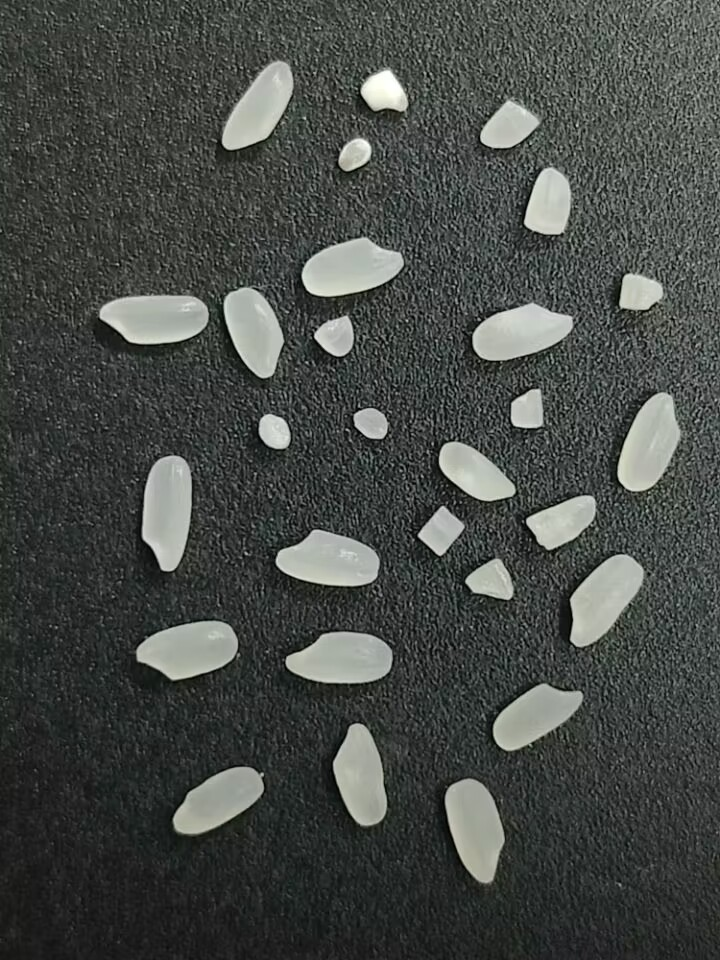broken: (434, 438, 517, 502), (522, 490, 600, 553), (522, 162, 573, 236), (478, 96, 540, 150), (415, 503, 466, 558), (359, 68, 412, 116), (615, 270, 666, 316), (463, 558, 514, 602), (256, 407, 297, 455), (506, 384, 546, 431), (315, 316, 354, 357), (352, 404, 389, 442), (338, 137, 371, 172)
rice: (567, 550, 646, 653), (487, 681, 587, 755), (441, 777, 508, 885), (299, 235, 406, 301), (616, 388, 682, 495), (219, 58, 294, 152), (95, 290, 213, 349), (328, 719, 389, 830), (139, 453, 195, 573), (135, 620, 240, 684), (469, 299, 575, 362), (282, 628, 394, 687), (223, 283, 289, 382), (275, 527, 382, 586), (173, 766, 264, 835)
